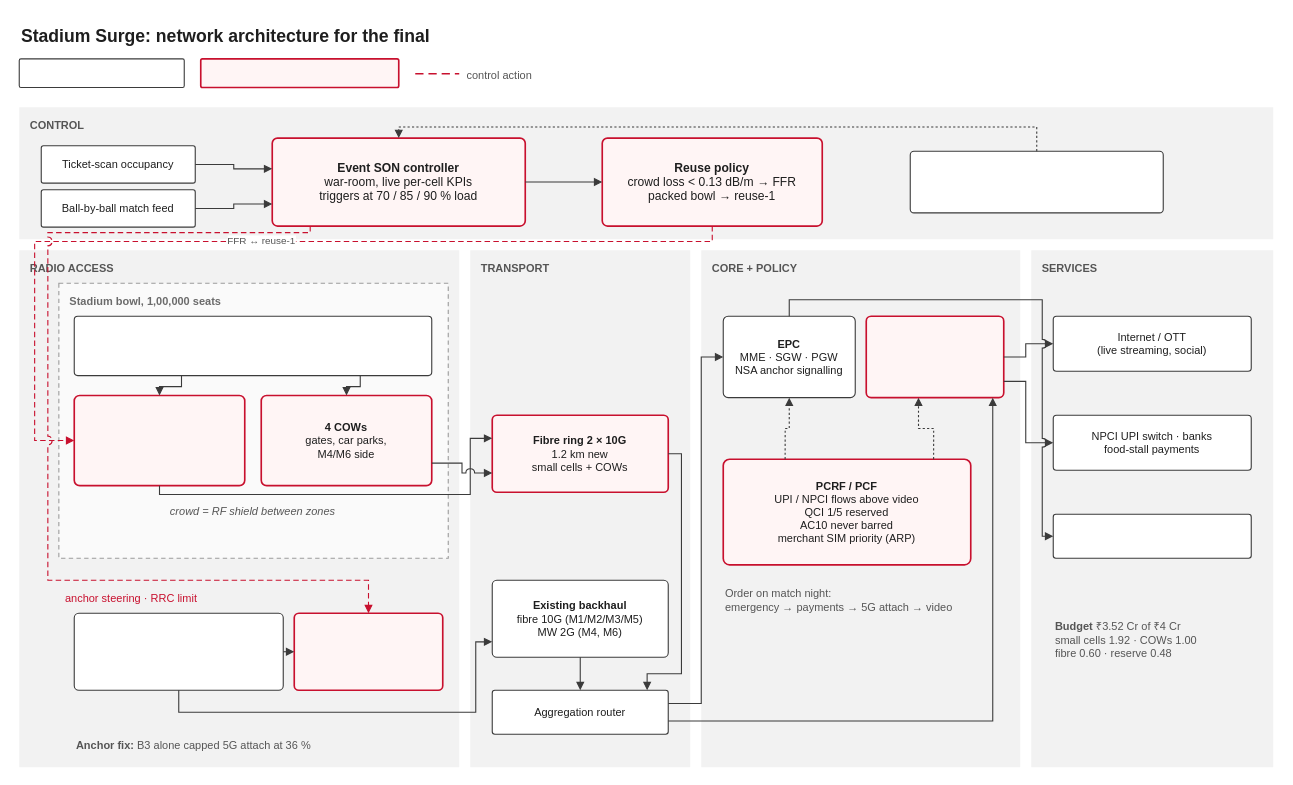
The diagram is 1293 pixels wide and 785 high, and some of its shapes have lost their labels. Here are the shapes that lost their labels. From the top down, the centre of each, then its label:
At [101,72]: "Existing Airtel network".
At [299,73]: "Added / changed by our plan".
At [1036,181]: "Live KPIs: anchor load, 5G attach %, UPI success, VoLTE drops".
At [252,345]: "Fans' phones 28k 5G (NSA / SA) · 12k 4G-only 7,200 online at peak".
At [934,356]: "5GC AMF · SMF · UPF SA in stadium cluster".
At [159,440]: "24 under-seat small cells n78 100 MHz + LTE 40 MHz seat-zone reuse, low power".
At [1151,535]: "Emergency services (112)".
At [178,651]: "Macro sites M1–M6 n78 64T64R on M1/M2/M3/M5 LTE B1 · B3 · B40".
At [368,651]: "Multi-anchor B1 + B40 join B3 5G-capable priority".
